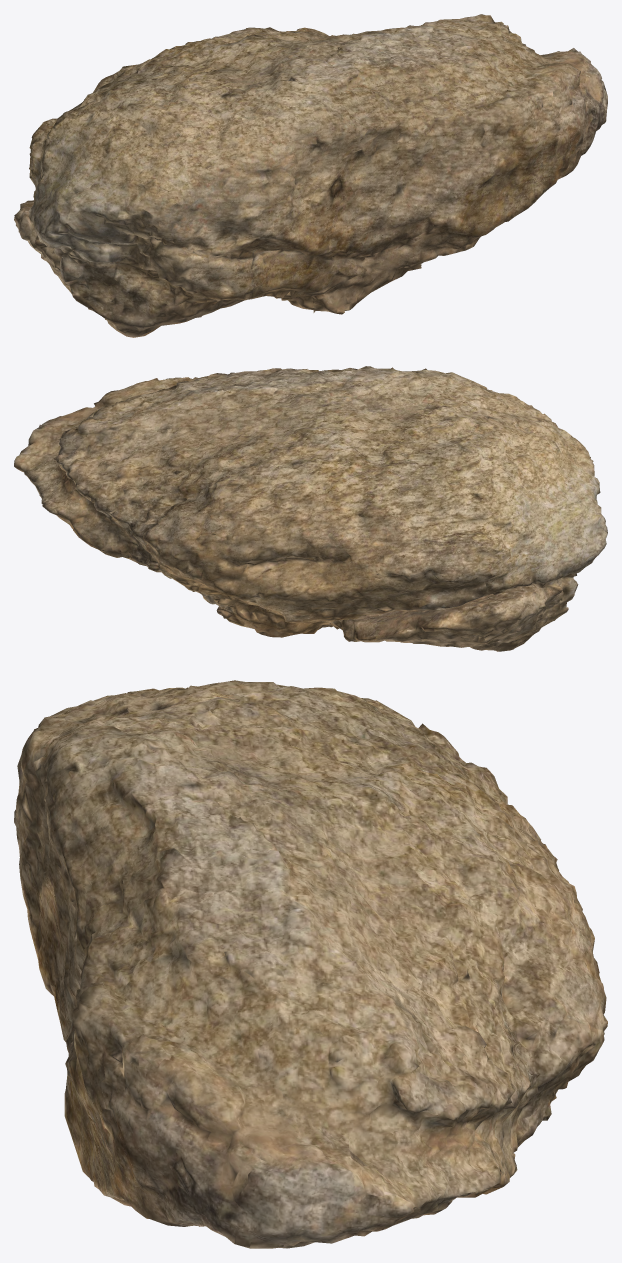
File: namaqualand_boulder_05.glb
3 renders of one model, top to bottom at view 1: azimuth 30°, elevation 25°; view 2: azimuth 150°, elevation 25°; view 3: azimuth 270°, elevation 25°, orthographic. The views are drawn at different scales.
Visible parts, largest first — view 1: namaqualand_boulder_05; view 2: namaqualand_boulder_05; view 3: namaqualand_boulder_05.
Boxes of the visible parts, x1,y1,x2,y2 form: namaqualand_boulder_05: (14,14,607,337); namaqualand_boulder_05: (14,366,607,651); namaqualand_boulder_05: (14,680,607,1248).
Bounding box in the file's own units: 1.36 × 0.5384 × 0.7481.
Materials: 1 (1 with a texture image).
